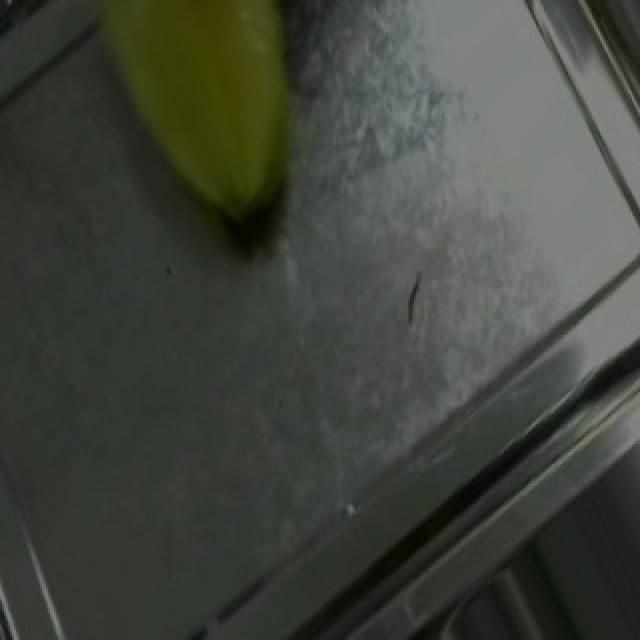fruit: (46, 0, 344, 263)
